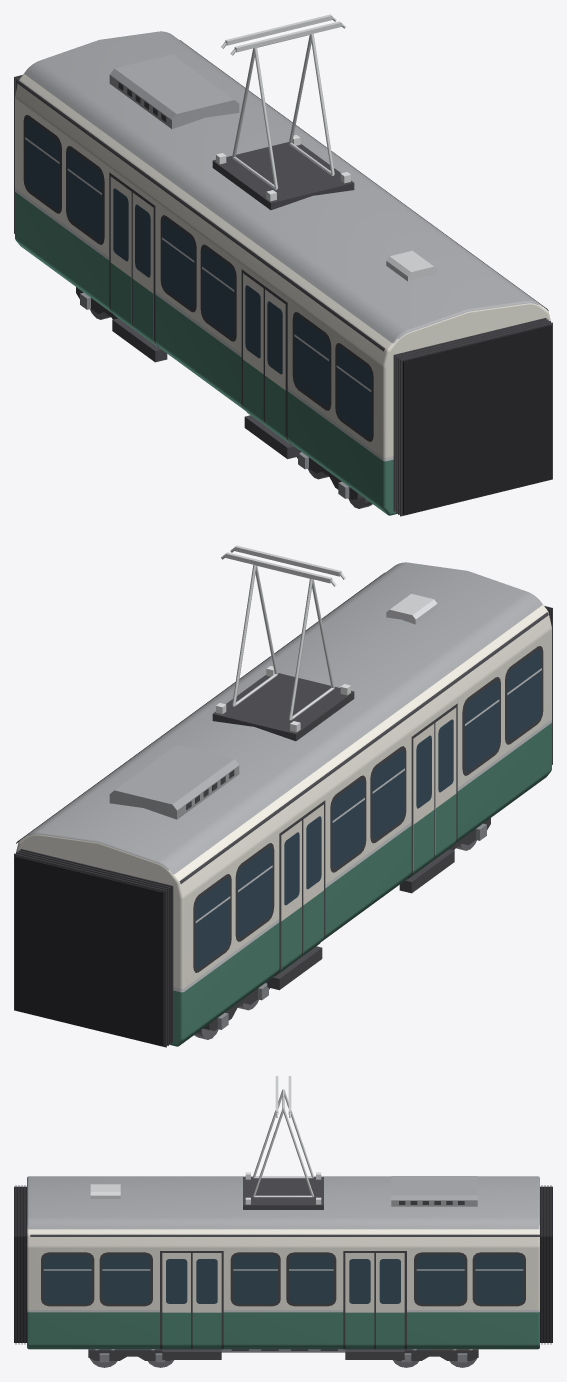
Rendered from middle_2_close.fbx.
The picture shows the model from 3 angles, top to bottom: view 1: azimuth 30°, elevation 25°; view 2: azimuth 150°, elevation 25°; view 3: azimuth 270°, elevation 25°; orthographic projection. The views are drawn at different scales.
Parts seen in each view (by area): view 1: 14_middle_2_close; view 2: 14_middle_2_close; view 3: 14_middle_2_close.
Part boxes in pixels (x1=…): 14_middle_2_close: x1=14, y1=14, x2=552, y2=516; 14_middle_2_close: x1=14, y1=545, x2=552, y2=1047; 14_middle_2_close: x1=14, y1=1076, x2=552, y2=1367.
Size of the model in its own units: 2.54 by 5.21 by 10.
